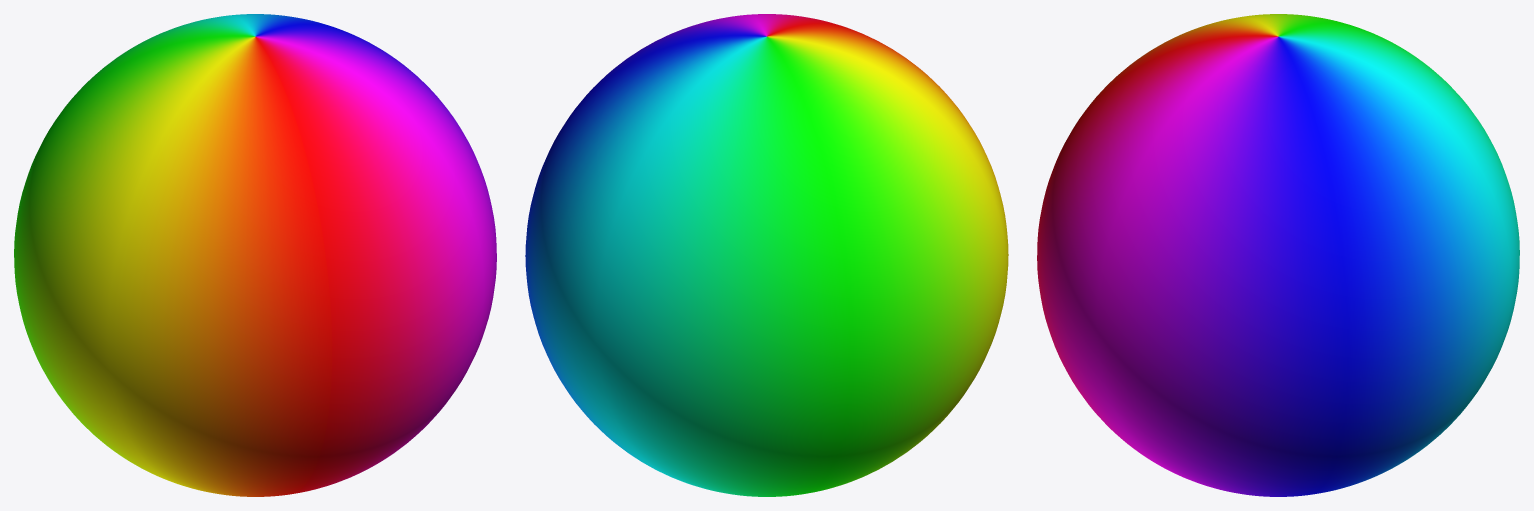
3 renders of one model, left to right at view 1: azimuth 30°, elevation 25°; view 2: azimuth 150°, elevation 25°; view 3: azimuth 270°, elevation 25°, orthographic.
Visible parts, largest first — view 1: Sphere; view 2: Sphere; view 3: Sphere.
Boxes of the visible parts, box(x1,y1,x2,y2) form: Sphere: box(14, 14, 496, 496); Sphere: box(525, 14, 1008, 496); Sphere: box(1037, 14, 1519, 496).
Size of the model in its own units: 11073 by 11073 by 11068.
